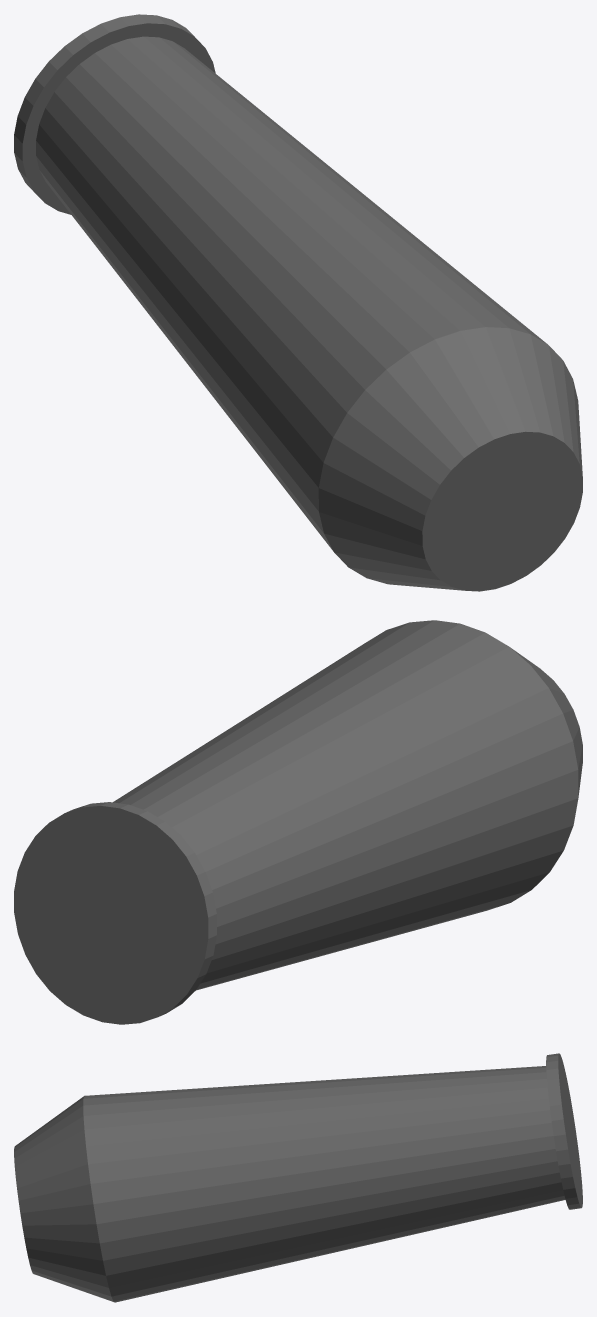
The model's file is cannon.obj.
3 views of the same model, one above another, from view 1: azimuth 30°, elevation 25°; view 2: azimuth 150°, elevation 25°; view 3: azimuth 270°, elevation 25° (orthographic). The views are drawn at different scales.
Parts seen in each view (by area): view 1: Cannon; view 2: Cannon; view 3: Cannon.
Part boxes in pixels (<box>): Cannon: <box>14,14,582,591</box>; Cannon: <box>14,620,582,1024</box>; Cannon: <box>14,1053,582,1302</box>.
Size of the model in its own units: 0.3196 by 0.3913 by 0.8693.
1 material, 1 textured.
